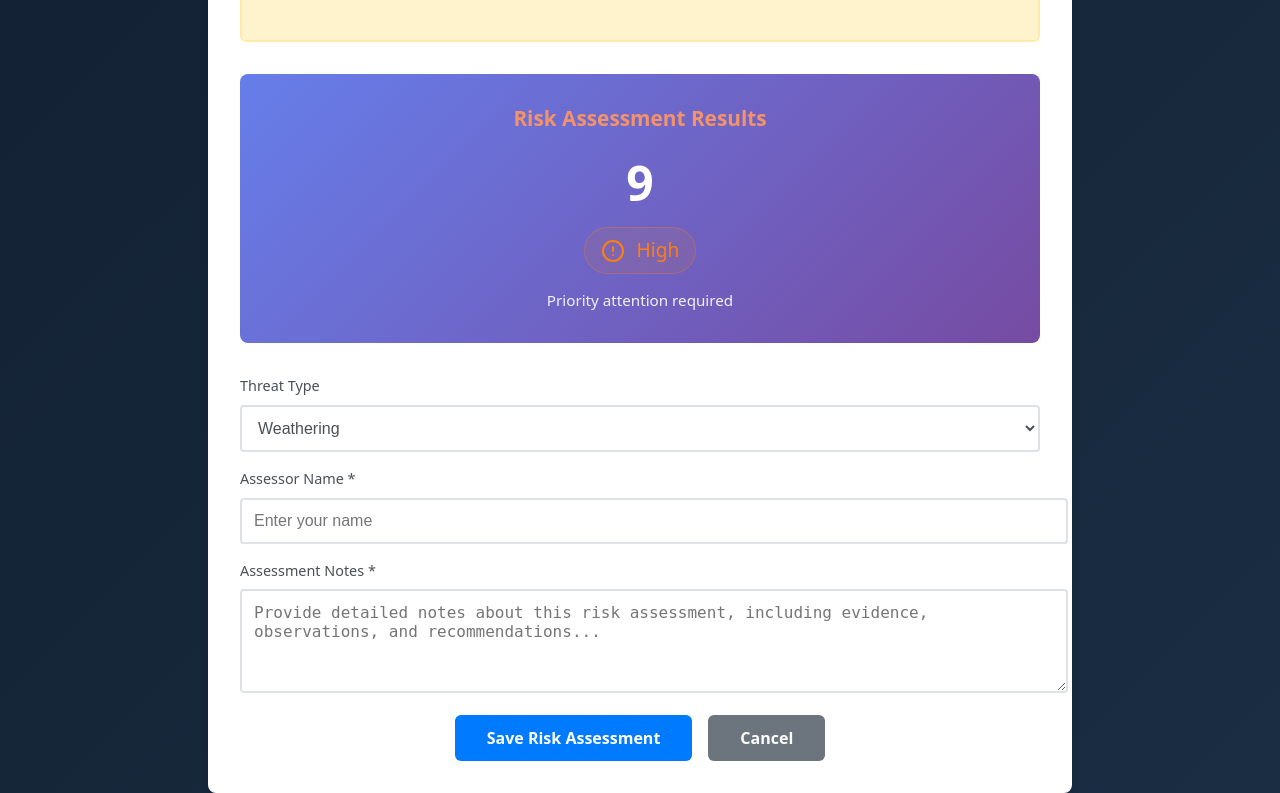
RiskAssessmentForm › validates required fields
(page scrolled)
Click the button "Save Risk Assessment" at [574, 738], box [455,715,692,761]
(page scrolled)
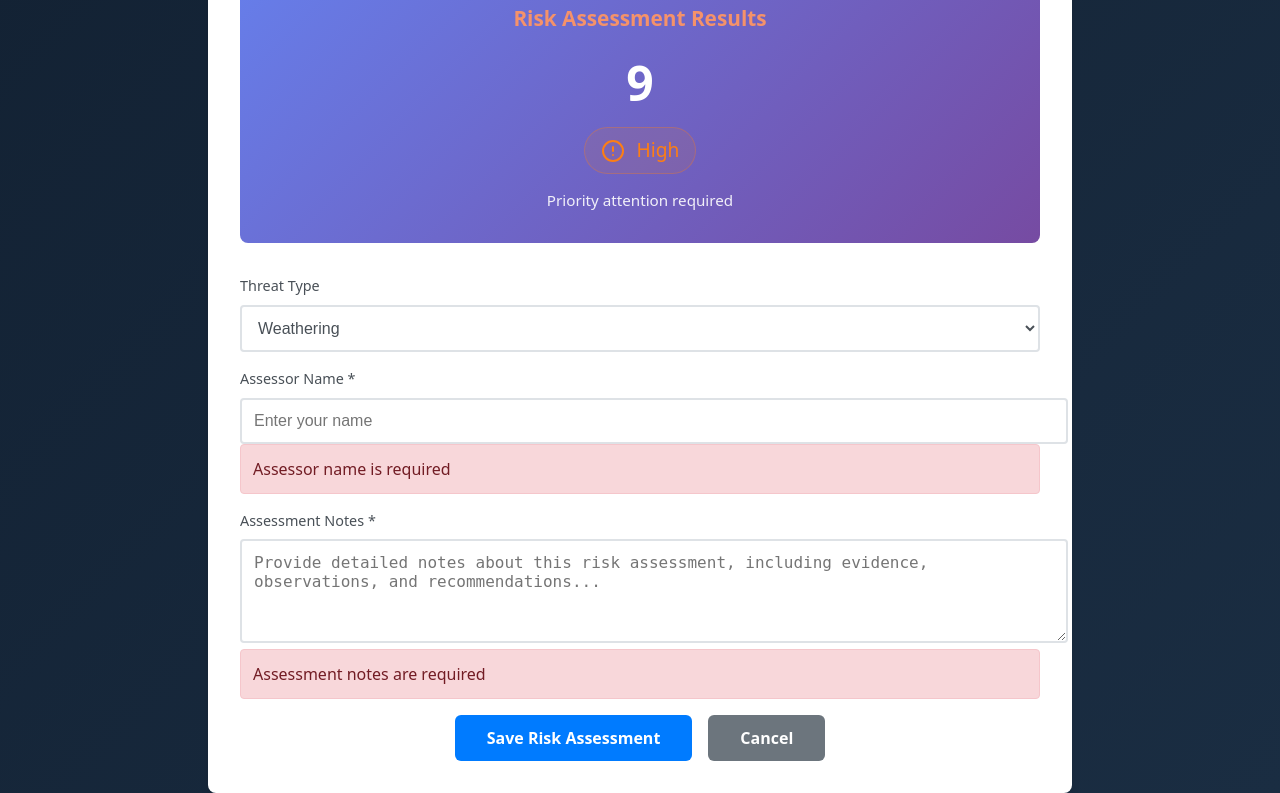
Expected: the text "Assessor name is required" is shown, [240,444,1040,494]
Expected: the text "Assessment notes are required" is shown, [240,649,1040,699]
